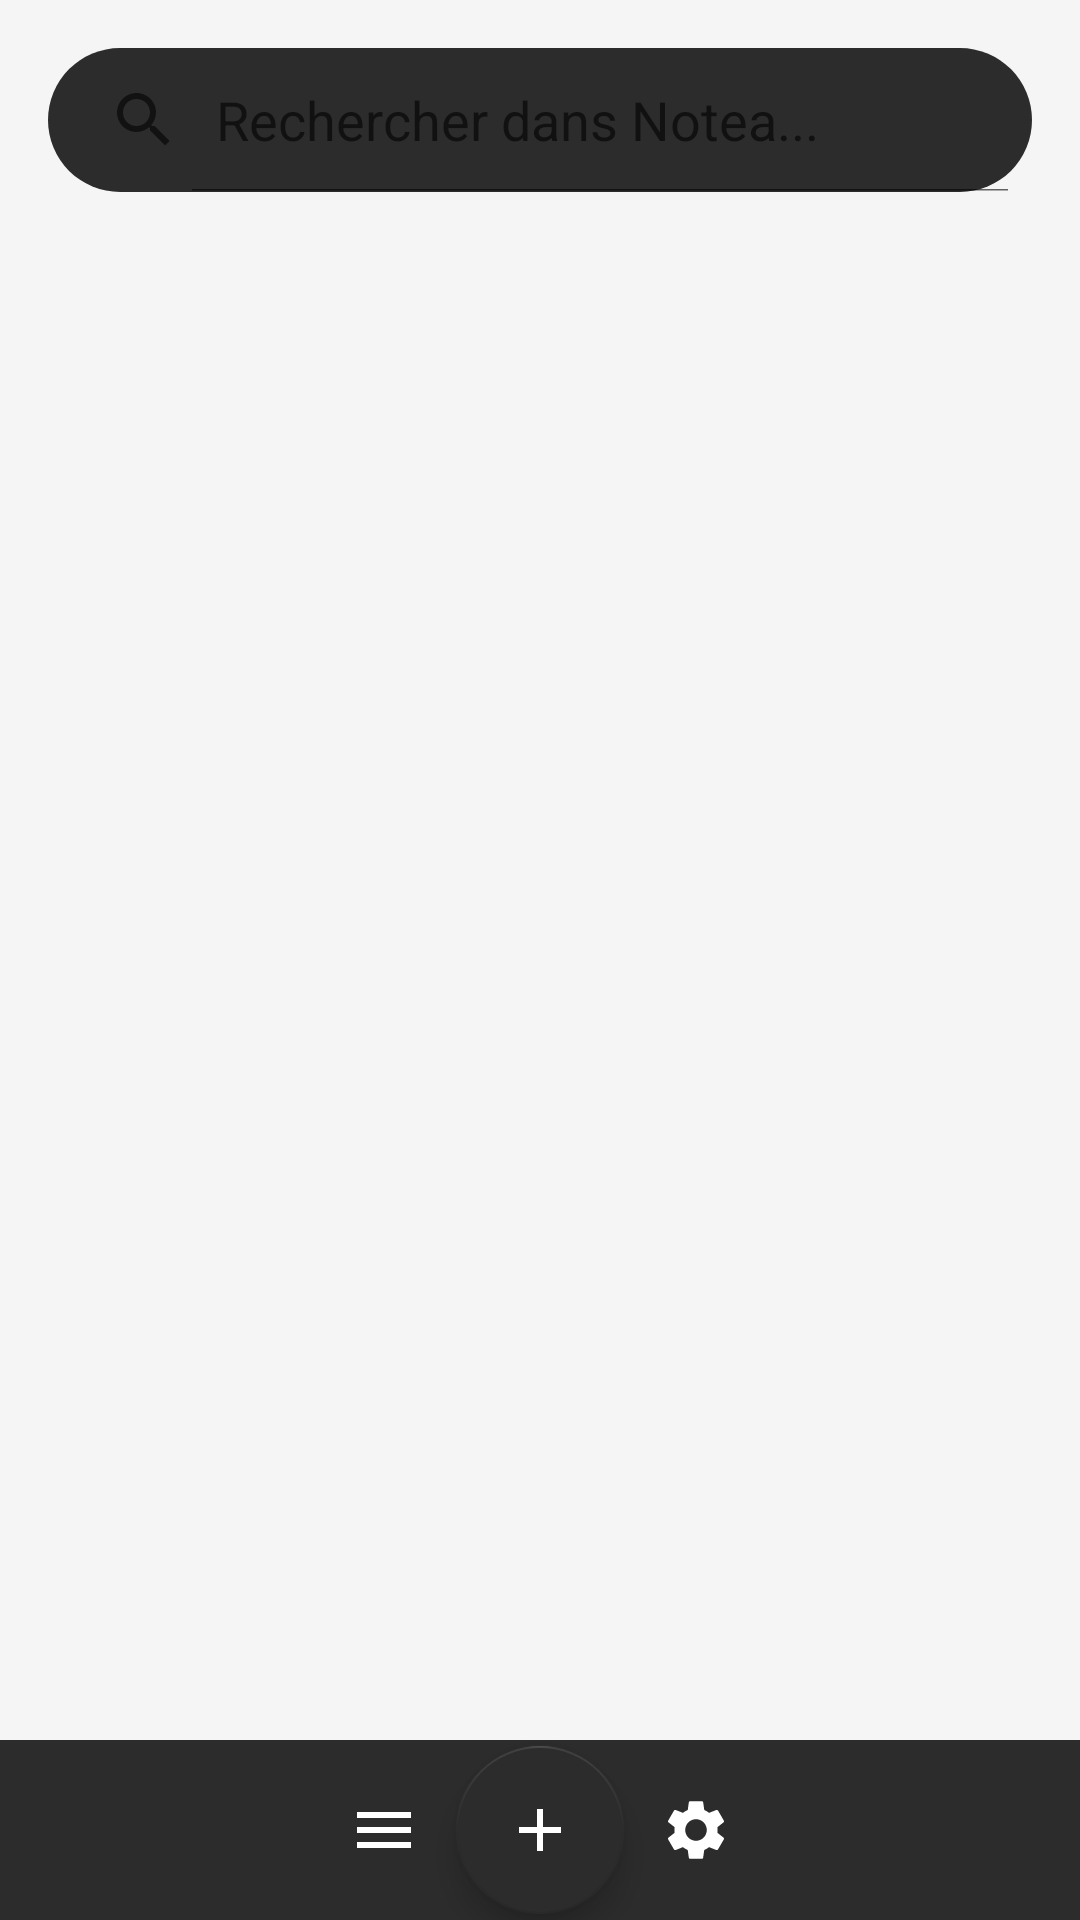

Icon bounding boxes for this 1080px×1920px phone screenshot, format (x1, y1, x2, y2):
Menu: (357, 1812, 411, 1848)
Paramètres: (668, 1801, 724, 1859)
